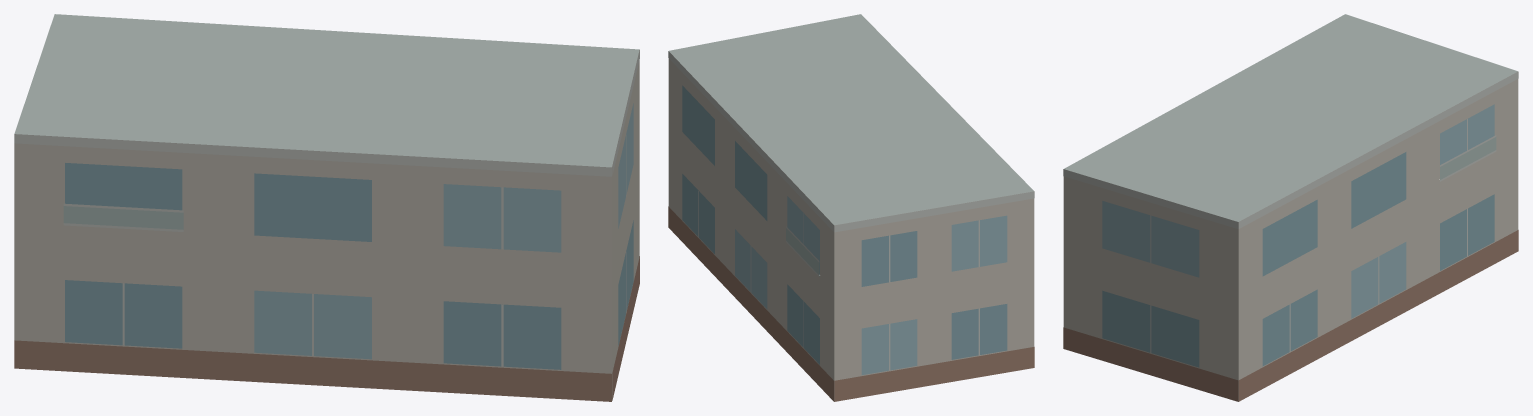
Rendered from survey-upis-32650421.glb.
The picture shows the model from 3 angles, left to right: view 1: azimuth 30°, elevation 25°; view 2: azimuth 150°, elevation 25°; view 3: azimuth 270°, elevation 25°; orthographic projection. The views are drawn at different scales.
Visible parts, largest first — view 1: survey-upis-32650421.tmp; view 2: survey-upis-32650421.tmp; view 3: survey-upis-32650421.tmp.
Boxes of the visible parts, <box> form: survey-upis-32650421.tmp: <box>14,14,639,401</box>; survey-upis-32650421.tmp: <box>668,14,1034,401</box>; survey-upis-32650421.tmp: <box>1063,14,1518,401</box>.
Bounding box in the file's own units: 15.14 × 6.1 × 14.
